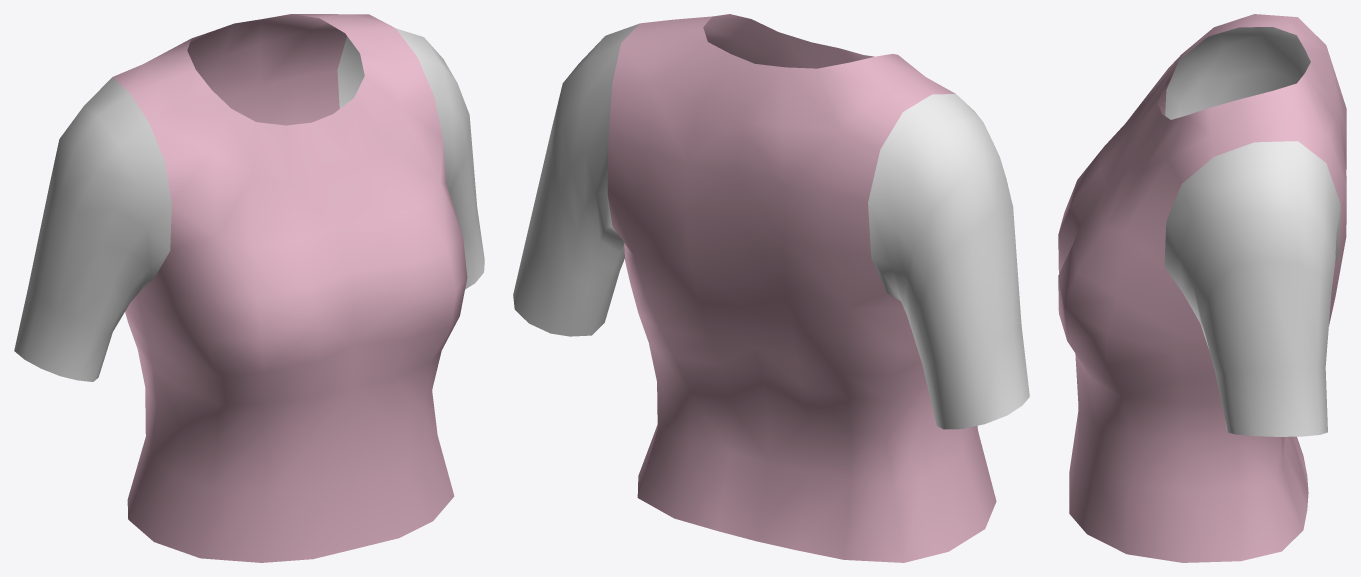
The model's file is blouse_23.glb.
3 renders of one model, left to right at view 1: azimuth 30°, elevation 25°; view 2: azimuth 150°, elevation 25°; view 3: azimuth 270°, elevation 25°, orthographic. The views are drawn at different scales.
Visible parts, largest first — view 1: blouse_23; view 2: blouse_23; view 3: blouse_23.
Boxes of the visible parts, bbox=[...] form: blouse_23: bbox=[14, 14, 484, 562]; blouse_23: bbox=[513, 14, 1029, 562]; blouse_23: bbox=[1058, 14, 1346, 562].
Size of the model in its own units: 0.4427 by 0.4094 by 0.2466.
